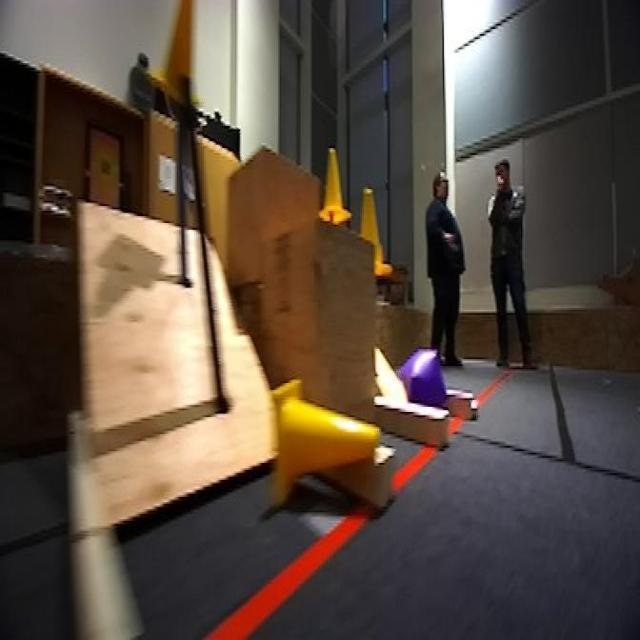frc_cone: (271, 376, 384, 511), (147, 0, 216, 107), (352, 182, 392, 283), (314, 142, 352, 226)
frc_cube: (401, 346, 450, 418)
